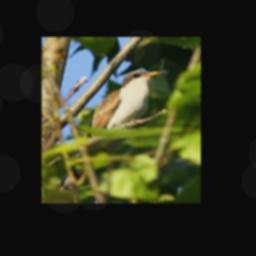Cuckoo: (55, 67, 167, 194)
